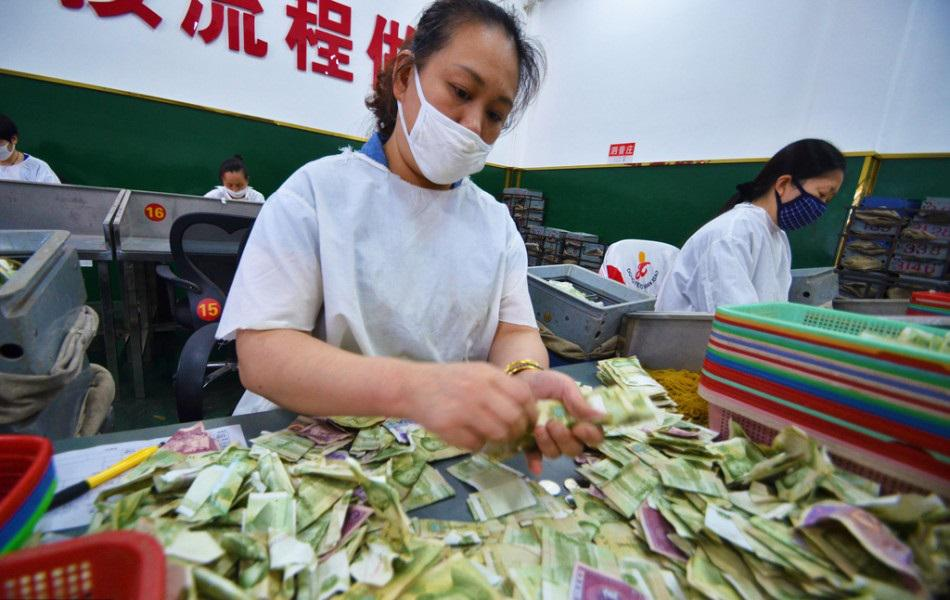OK: (774, 167, 843, 232), (1, 130, 18, 166)
WRONG: (403, 60, 518, 185), (225, 179, 247, 202)
